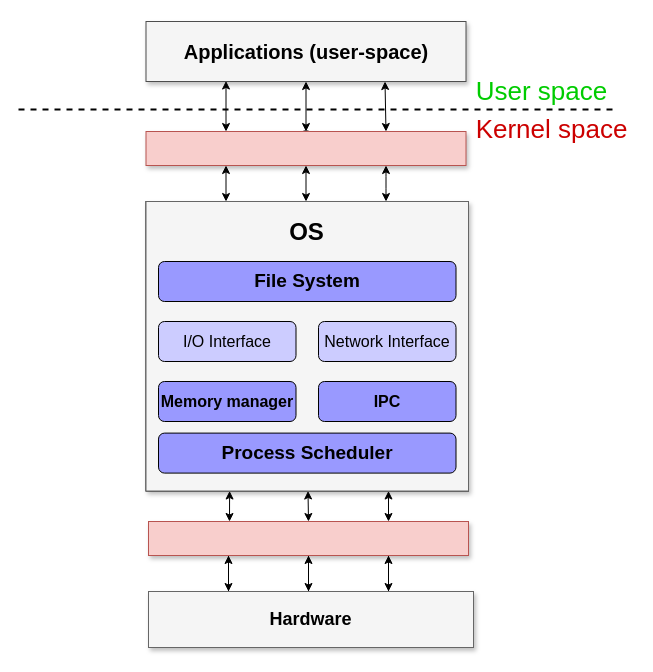
Image size: 653x672. Some labels were removed from this diagram. The centre of each missing label's shape, as x and y in pixels:
"Drivers" belongs at point 309,539.
"System Calls" belongs at point 306,149.
